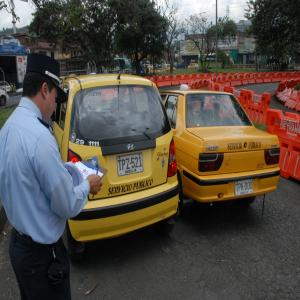Vehicle-registration-plate: (118, 156, 144, 184), (236, 181, 254, 198)
